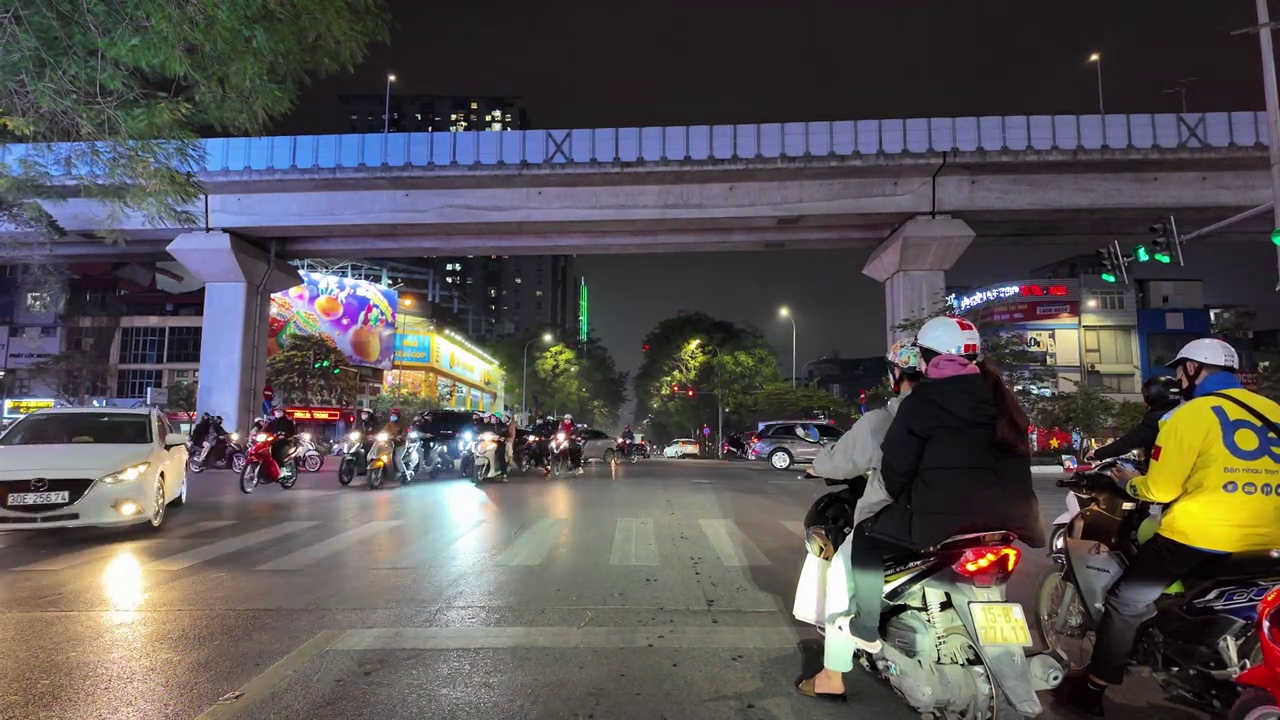acesa: (89, 551, 158, 623), (774, 303, 795, 325), (1089, 55, 1100, 65), (386, 74, 398, 83)
